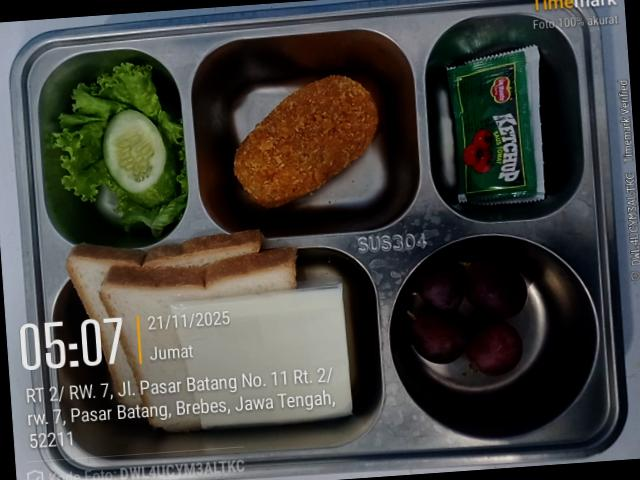ayam: (233, 75, 377, 207)
buah: (410, 258, 526, 375)
keju: (176, 283, 351, 427)
roti: (66, 229, 296, 431)
sayur: (50, 62, 187, 236)
